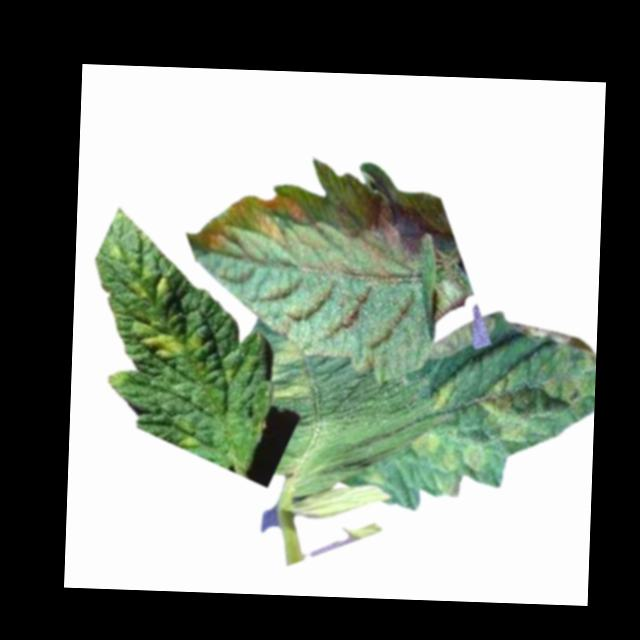Leaf_Mold: (478, 343, 591, 445), (196, 186, 313, 261), (411, 428, 490, 498), (269, 337, 320, 407), (131, 320, 201, 364), (125, 268, 171, 308), (427, 373, 457, 413)
